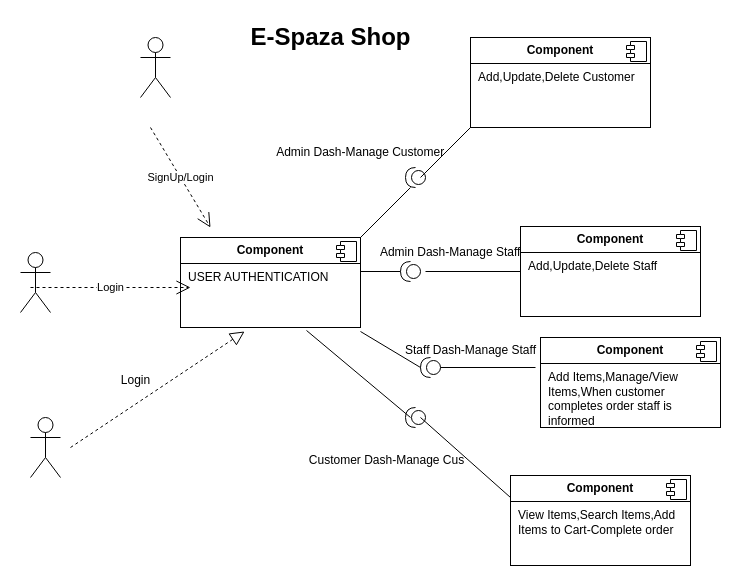
Some shapes in this 738 by 583 pixel diagram are drawn without their labels. The shapes that lost their labels are listed below. From the top down, each one's centre as x and y in pixels, then its label:
At (155,67): "Customer".
At (35,282): "Admin".
At (45,447): "Staff".
